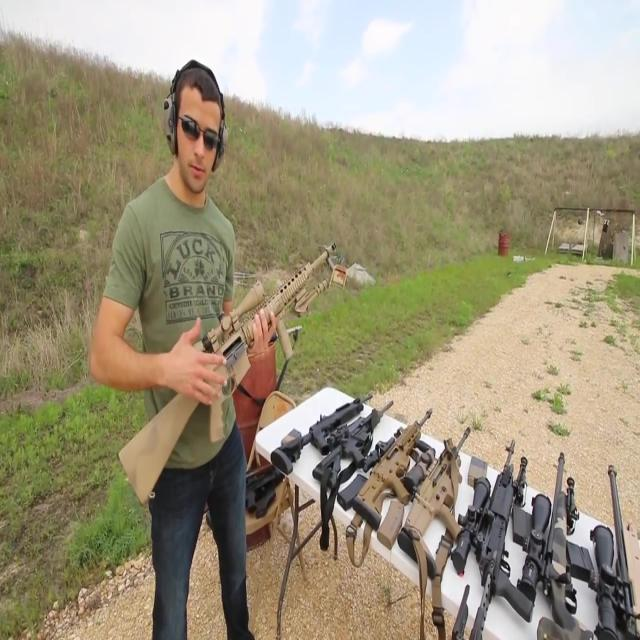Weapon: (147, 305, 640, 640), (67, 202, 414, 594)
